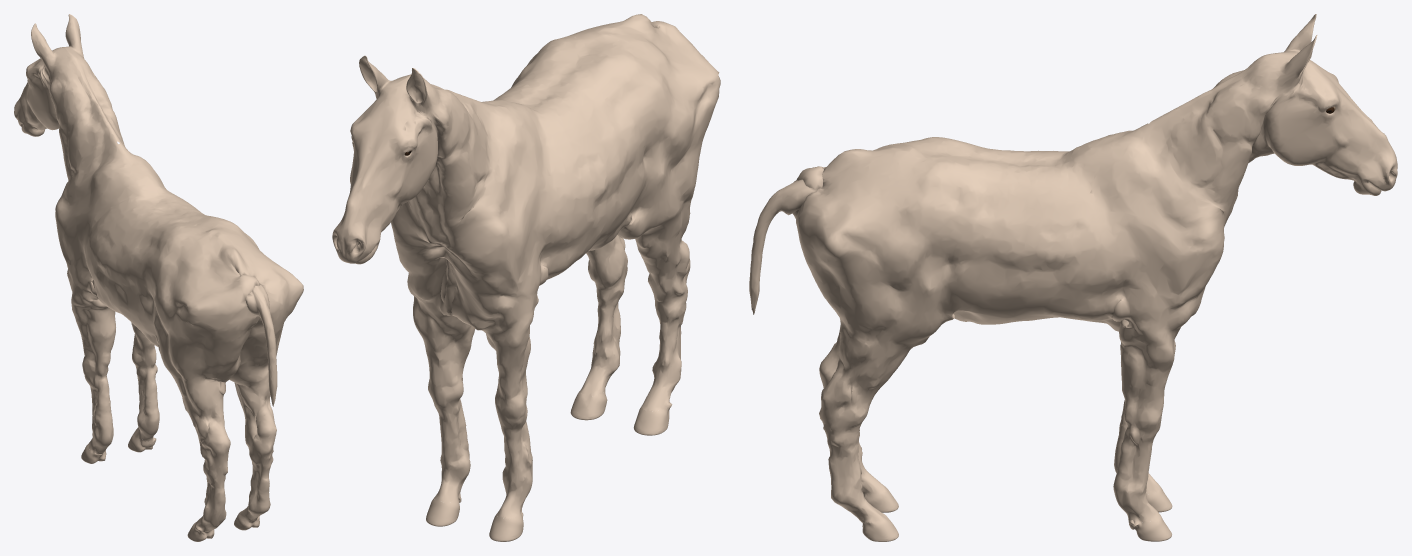
The model's file is integumentary.glb.
The picture shows the model from 3 angles, left to right: view 1: azimuth 30°, elevation 25°; view 2: azimuth 150°, elevation 25°; view 3: azimuth 270°, elevation 25°; orthographic projection. The views are drawn at different scales.
Visible parts, largest first — view 1: horse_integumentary_skin; view 2: horse_integumentary_skin, horse_integumentary_hooves_pelvic_L, horse_integumentary_hooves_pelvic_R, horse_integumentary_hooves_thoracic_L, horse_integumentary_hooves_thoracic_R; view 3: horse_integumentary_skin.
Part boxes in pixels (left/top/right/bottom): horse_integumentary_skin: left=14, top=14, right=303, bottom=530; horse_integumentary_skin: left=332, top=14, right=720, bottom=519; horse_integumentary_hooves_pelvic_L: left=633, top=406, right=670, bottom=435; horse_integumentary_hooves_pelvic_R: left=570, top=390, right=607, bottom=420; horse_integumentary_hooves_thoracic_L: left=489, top=510, right=523, bottom=541; horse_integumentary_hooves_thoracic_R: left=426, top=494, right=461, bottom=526; horse_integumentary_skin: left=749, top=14, right=1397, bottom=523.
Size of the model in its own units: 0.6866 by 2.18 by 2.57.
